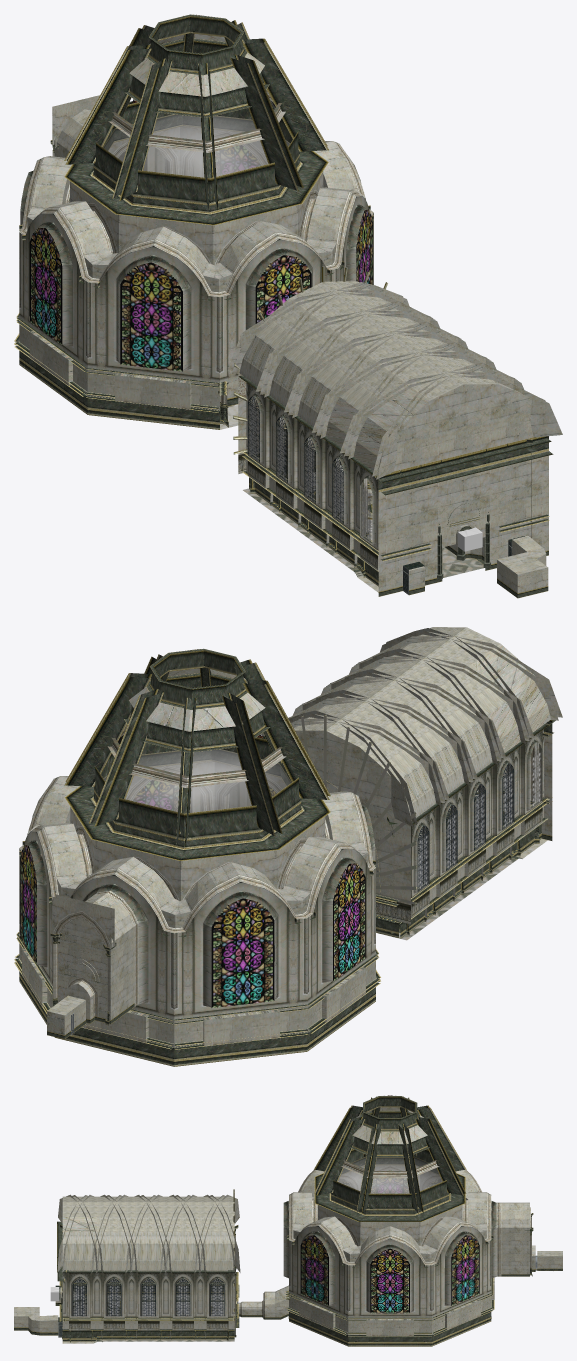
The model's file is temple_of_time.glb.
3 renders of one model, top to bottom at view 1: azimuth 30°, elevation 25°; view 2: azimuth 150°, elevation 25°; view 3: azimuth 270°, elevation 25°, orthographic. The views are drawn at different scales.
Visible parts, largest first — view 1: n3b6_n3b6.001, n9b1_n9b1.001, n5b20_n5b20.001, n7b18_n7b18.001, n6b9_n6b9.001, n27b8_n27b8.001, n24b22_n24b22.001, n8b7_n8b7.001, n10b23_n10b23.001; view 2: n3b6_n3b6.001, n9b1_n9b1.001, n5b20_n5b20.001, n7b18_n7b18.001, n6b9_n6b9.001, n27b8_n27b8.001, n24b22_n24b22.001, n8b7_n8b7.001, n10b23_n10b23.001; view 3: n3b6_n3b6.001, n9b1_n9b1.001, n5b20_n5b20.001, n7b18_n7b18.001, n6b9_n6b9.001, n27b8_n27b8.001, n24b22_n24b22.001, n8b7_n8b7.001, n10b23_n10b23.001.
Part boxes in pixels (x1,y1,x2,y2): n3b6_n3b6.001: (19,34,562,592); n9b1_n9b1.001: (14,14,553,598); n5b20_n5b20.001: (19,146,378,570); n7b18_n7b18.001: (29,145,372,371); n6b9_n6b9.001: (19,90,531,537); n27b8_n27b8.001: (103,114,372,542); n24b22_n24b22.001: (248,396,343,523); n8b7_n8b7.001: (238,448,377,570); n10b23_n10b23.001: (243,488,483,577); n3b6_n3b6.001: (19,627,562,1047); n9b1_n9b1.001: (14,649,555,1066); n5b20_n5b20.001: (19,729,543,1021); n7b18_n7b18.001: (20,780,365,1007); n6b9_n6b9.001: (19,724,539,1017); n27b8_n27b8.001: (103,749,541,889); n24b22_n24b22.001: (417,763,514,891); n8b7_n8b7.001: (376,807,542,924); n10b23_n10b23.001: (382,832,517,940); n3b6_n3b6.001: (14,1107,562,1343); n9b1_n9b1.001: (14,1096,562,1346); n5b20_n5b20.001: (62,1178,496,1329); n7b18_n7b18.001: (300,1170,479,1313); n6b9_n6b9.001: (228,1160,531,1328); n27b8_n27b8.001: (74,1157,442,1316); n24b22_n24b22.001: (72,1278,224,1316); n8b7_n8b7.001: (69,1278,228,1330); n10b23_n10b23.001: (100,1295,234,1341).
Size of the model in its own units: 7.43 by 8.62 by 19.15.
Materials: 28 (27 with a texture image).
